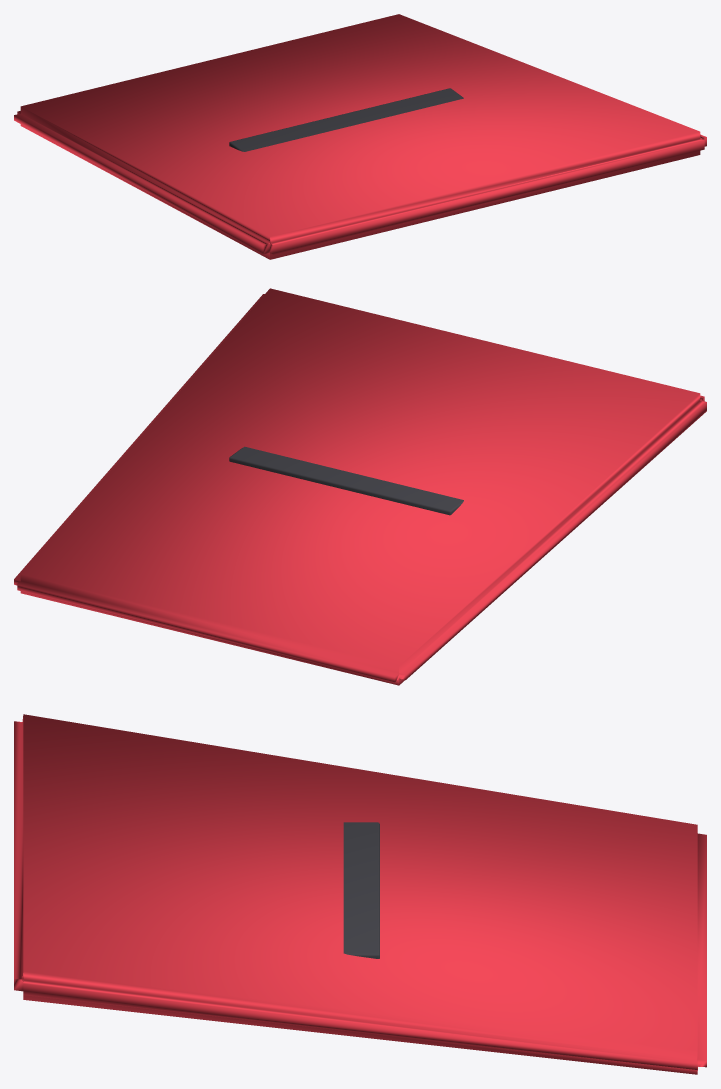
File: hypercar_hood_vented.glb
3 renders of one model, top to bottom at view 1: azimuth 30°, elevation 25°; view 2: azimuth 150°, elevation 25°; view 3: azimuth 270°, elevation 25°, orthographic. The views are drawn at different scales.
Visible parts, largest first — view 1: Hypercar_Hood_Vented; view 2: Hypercar_Hood_Vented; view 3: Hypercar_Hood_Vented.
Part boxes in pixels (bbox=[...]): Hypercar_Hood_Vented: bbox=[14, 14, 706, 259]; Hypercar_Hood_Vented: bbox=[14, 288, 706, 685]; Hypercar_Hood_Vented: bbox=[14, 714, 706, 1074].
Size of the model in its own units: 1.19 by 0.2496 by 1.32.
